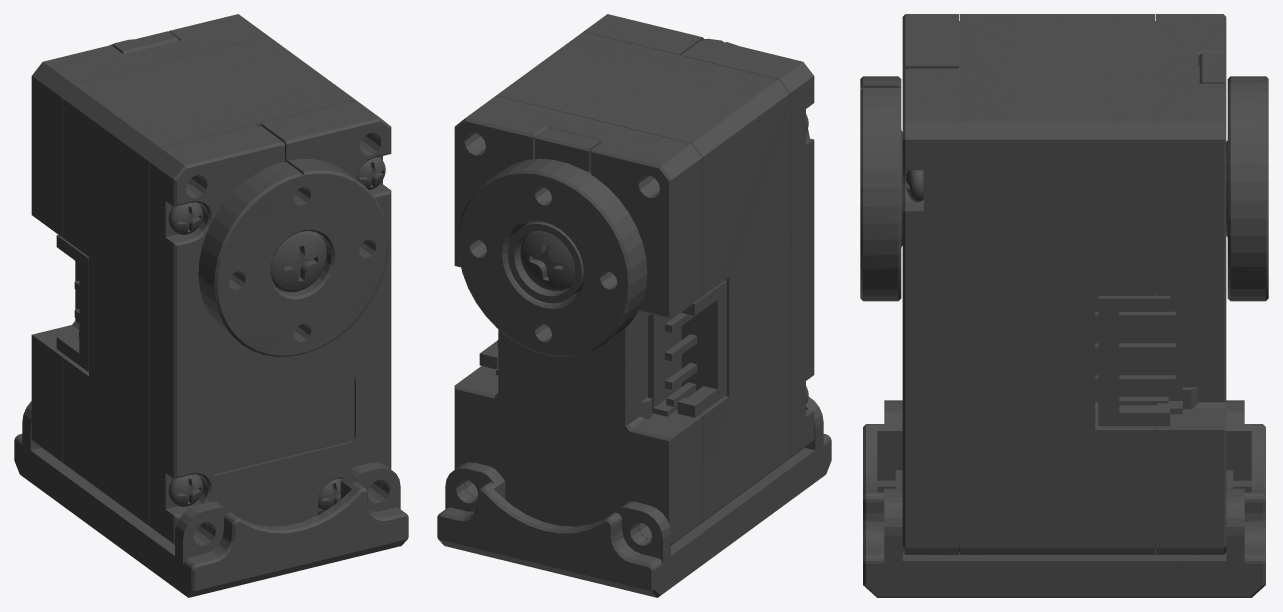
Rendered from thumb_tip_base.dae.
3 renders of one model, left to right at view 1: azimuth 30°, elevation 25°; view 2: azimuth 150°, elevation 25°; view 3: azimuth 270°, elevation 25°, orthographic. The views are drawn at different scales.
Parts seen in each view (by area): view 1: node; view 2: node; view 3: node.
Part boxes in pixels (box(x1,y1,x2,y2)): node: box(14, 14, 408, 597); node: box(437, 14, 831, 597); node: box(860, 14, 1268, 597).
Size of the model in its own units: 0.02 by 0.037 by 0.029.
1 material, 1 textured.
